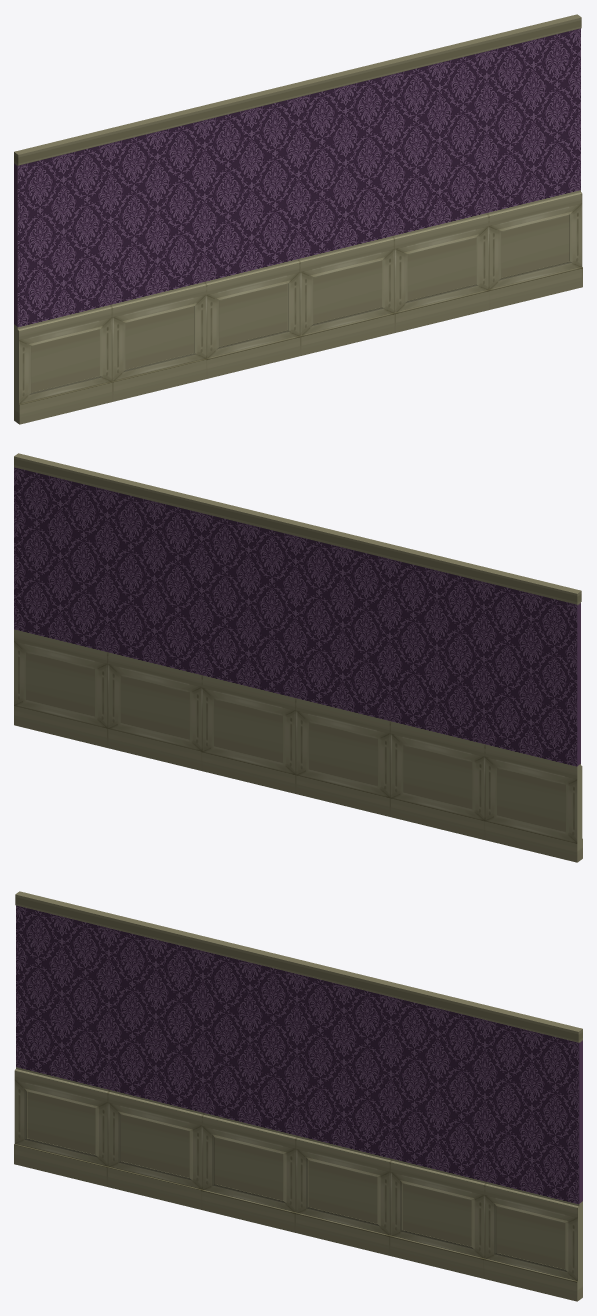
The model's file is wall2.FBX.
3 views of the same model, one above another, from view 1: azimuth 30°, elevation 25°; view 2: azimuth 150°, elevation 25°; view 3: azimuth 330°, elevation 25° (orthographic).
Visible parts, largest first — view 1: Cube001; view 2: Cube001; view 3: Cube001.
Boxes of the visible parts, x1,y1,x2,y2 form: Cube001: [14, 14, 582, 424]; Cube001: [14, 453, 582, 862]; Cube001: [14, 891, 582, 1301].
Bounding box in the file's own units: 192 × 87.48 × 3.29.
1 material, 1 textured.
